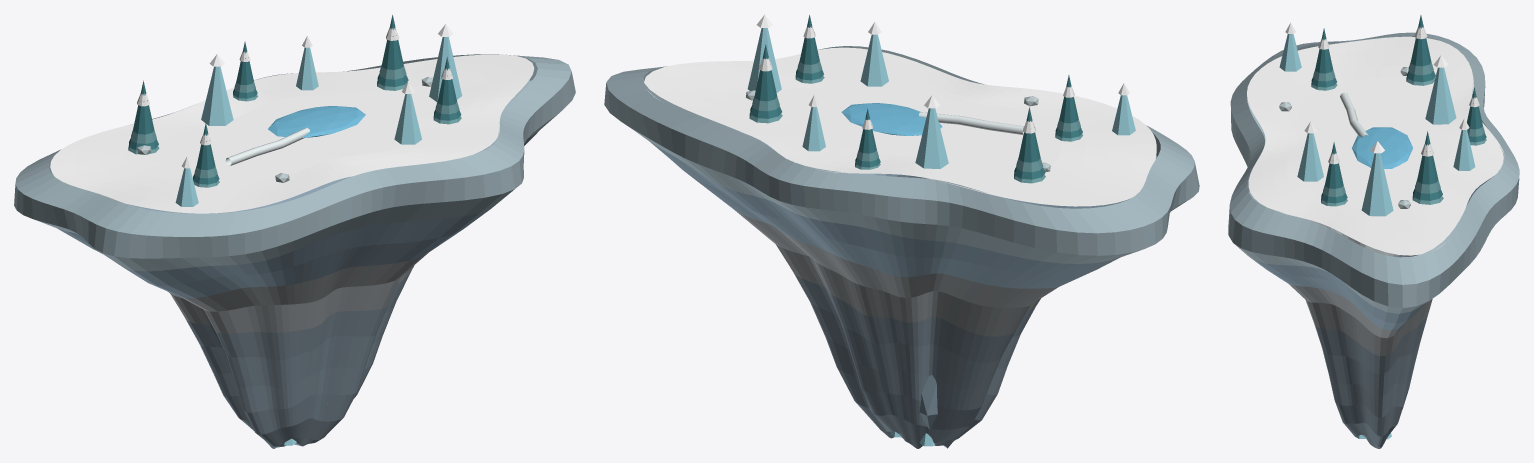
File: FI-031-Frostwake-Reach.glb
The picture shows the model from 3 angles, left to right: view 1: azimuth 30°, elevation 25°; view 2: azimuth 150°, elevation 25°; view 3: azimuth 270°, elevation 25°; orthographic projection. The views are drawn at different scales.
Parts seen in each view (by area): view 1: FI-031_StratifiedFloatingCliff, FI-031_BuildableTop, FrozenTarn, BlueIceSpire_00, BlueIceSpire_02, BlueIceSpire_01, SnowSaddleTrail, BlueIceSpire_04, BlueIceSpire_03, Frostfir_02_Bough_03, Frostfir_00_Bough_03; view 2: FI-031_StratifiedFloatingCliff, FI-031_BuildableTop, FrozenTarn, BlueIceSpire_00, BlueIceSpire_01, BlueIceSpire_02, SnowSaddleTrail, FI-031_GlacialRib_01, BlueIceSpire_04, BlueIceSpire_03, Frostfir_02_Bough_03, Frostfir_00_Bough_03; view 3: FI-031_StratifiedFloatingCliff, FI-031_BuildableTop, FrozenTarn, BlueIceSpire_02, BlueIceSpire_00, BlueIceSpire_01, BlueIceSpire_04, BlueIceSpire_03, Frostfir_02_Bough_03, Frostfir_00_Bough_03, SnowSaddleTrail, Frostfir_03_Bough_03 (+2 smaller).
Boxes of the visible parts, <box> form: FI-031_StratifiedFloatingCliff: <box>14,54,575,448</box>; FI-031_BuildableTop: <box>50,54,534,213</box>; FrozenTarn: <box>268,106,365,137</box>; BlueIceSpire_00: <box>201,66,233,125</box>; BlueIceSpire_02: <box>429,37,462,101</box>; BlueIceSpire_01: <box>394,94,421,144</box>; SnowSaddleTrail: <box>225,127,310,165</box>; BlueIceSpire_04: <box>296,47,318,90</box>; BlueIceSpire_03: <box>175,168,198,206</box>; Frostfir_02_Bough_03: <box>382,15,403,69</box>; Frostfir_00_Bough_03: <box>133,80,154,134</box>; FI-031_StratifiedFloatingCliff: <box>604,46,1199,448</box>; FI-031_BuildableTop: <box>644,47,1156,206</box>; FrozenTarn: <box>841,103,942,135</box>; BlueIceSpire_00: <box>915,108,948,168</box>; BlueIceSpire_01: <box>860,34,888,86</box>; BlueIceSpire_02: <box>747,28,781,92</box>; SnowSaddleTrail: <box>919,112,1024,134</box>; FI-031_GlacialRib_01: <box>919,375,937,429</box>; BlueIceSpire_04: <box>802,107,825,151</box>; BlueIceSpire_03: <box>1112,95,1135,135</box>; Frostfir_02_Bough_03: <box>755,44,777,101</box>; Frostfir_00_Bough_03: <box>1019,107,1040,162</box>; FI-031_StratifiedFloatingCliff: <box>1228,32,1519,448</box>; FI-031_BuildableTop: <box>1247,36,1504,255</box>; FrozenTarn: <box>1352,127,1412,168</box>; BlueIceSpire_02: <box>1361,153,1393,216</box>; BlueIceSpire_00: <box>1425,67,1456,124</box>; BlueIceSpire_01: <box>1297,133,1323,181</box>; BlueIceSpire_04: <box>1453,130,1475,170</box>; BlueIceSpire_03: <box>1279,34,1301,71</box>; Frostfir_02_Bough_03: <box>1417,131,1438,184</box>; Frostfir_00_Bough_03: <box>1411,15,1431,66</box>; SnowSaddleTrail: <box>1340,92,1368,137</box>; Frostfir_03_Bough_03: <box>1325,142,1343,188</box>.
Bounding box in the file's own units: 18.1 × 12.09 × 8.72.
